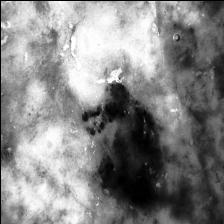Potentially Malignant Skin Tumors: (72, 78, 168, 210)
